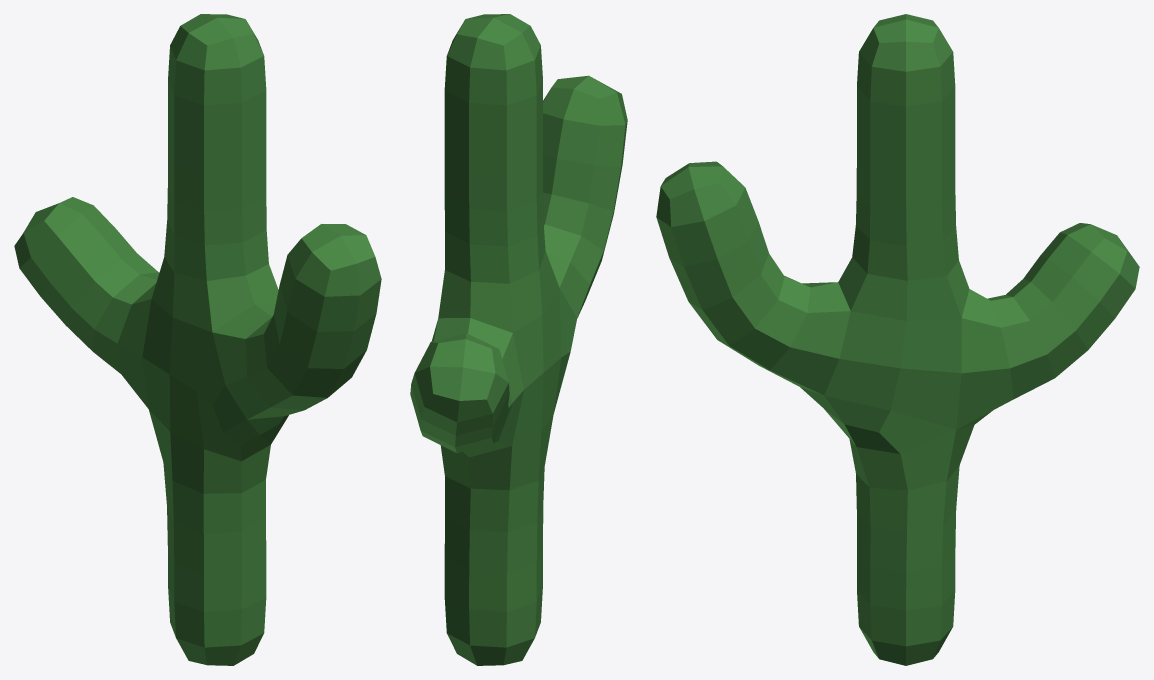
The model's file is cactus.fbx.
3 renders of one model, left to right at view 1: azimuth 30°, elevation 25°; view 2: azimuth 150°, elevation 25°; view 3: azimuth 270°, elevation 25°, orthographic.
Visible parts, largest first — view 1: Plane; view 2: Plane; view 3: Plane.
Part boxes in pixels (x1=…): Plane: x1=14, y1=14, x2=381, y2=665; Plane: x1=410, y1=14, x2=627, y2=665; Plane: x1=656, y1=14, x2=1139, y2=665.
Bounding box in the file's own units: 84.23 × 330 × 225.
